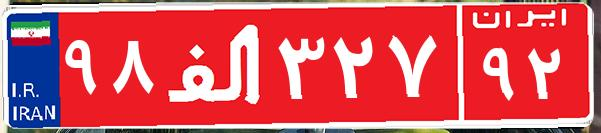2: (330, 28, 385, 110), (525, 38, 570, 115)
3: (273, 28, 330, 110)
7: (385, 28, 445, 110)
8: (110, 28, 158, 105)
9: (57, 26, 110, 107), (475, 38, 525, 113)
الف: (158, 15, 273, 115)
